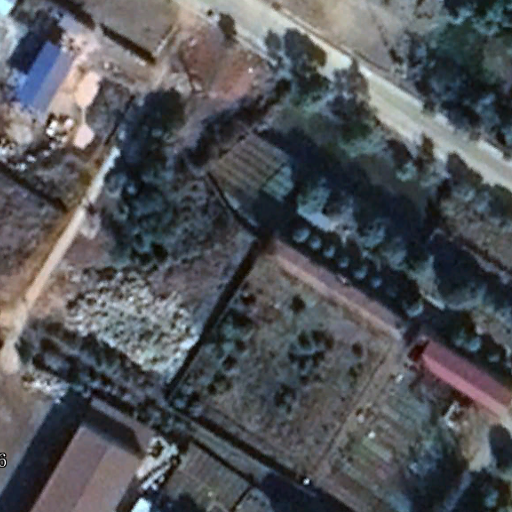msw: (62, 266, 201, 379)
